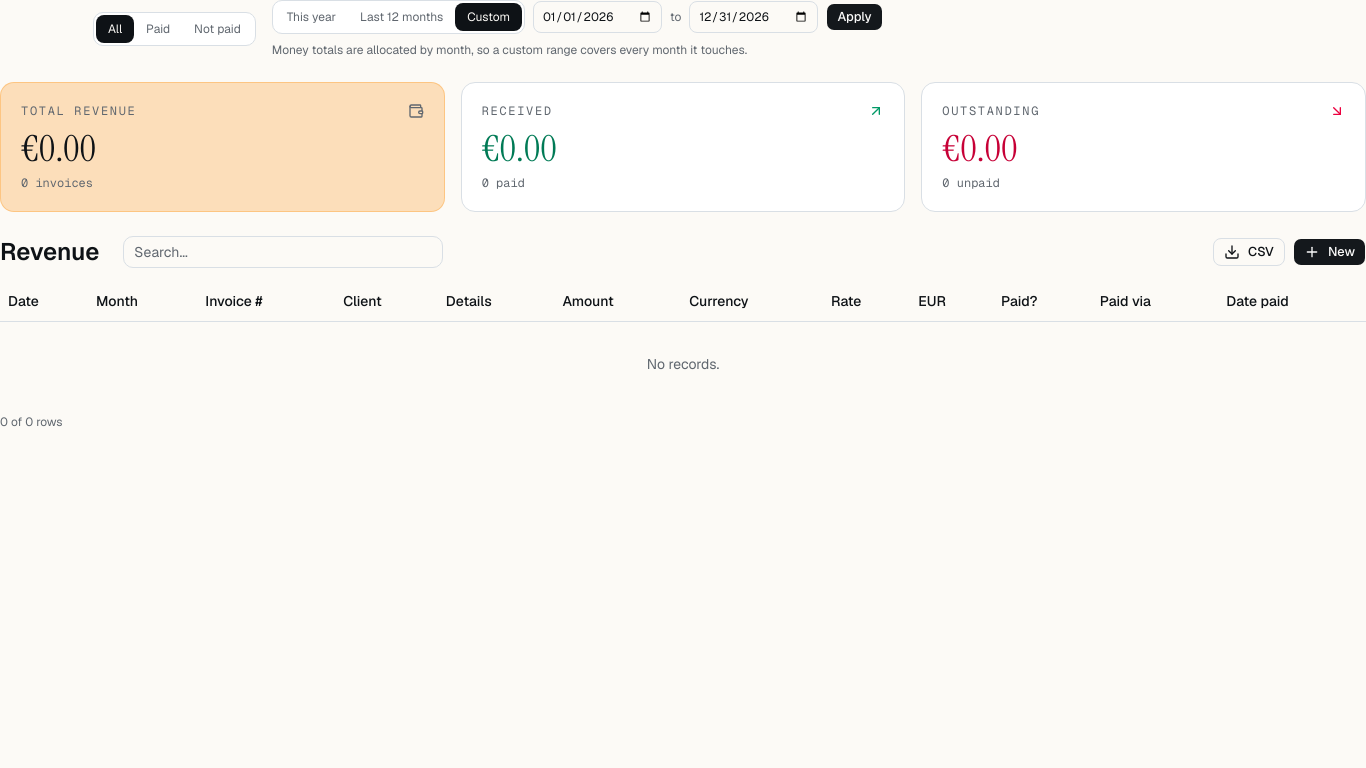
Scenario: Creating a revenue record › opens the new record so the service breakdown is reachable
The width and height of the screenshot is (1366, 768).
Click the button "New": (1329, 252) [1293,238,1365,266]
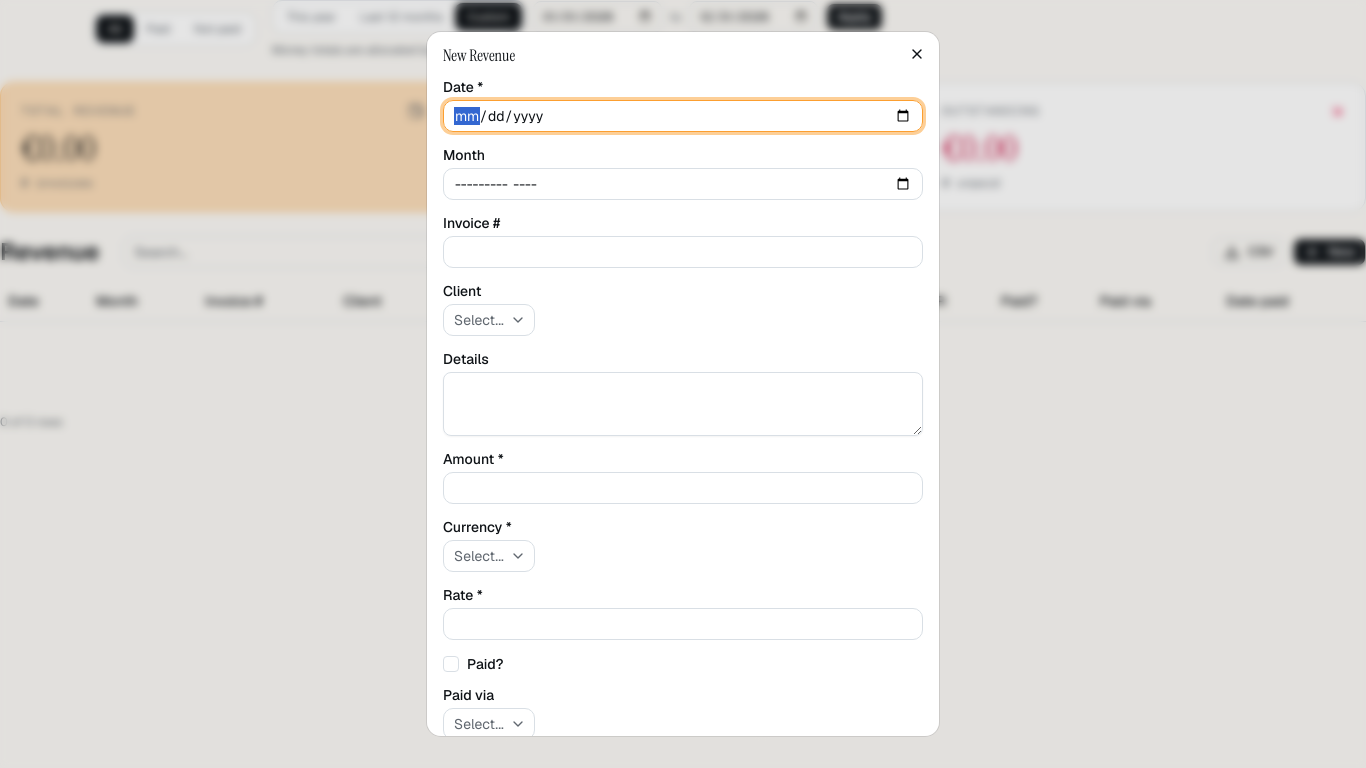
In the date field labelled "Date *": (683, 116) [443,100,923,132], type "2026-08-05"
In the number field labelled "Amount *": (683, 488) [443,472,923,504], type "1500"
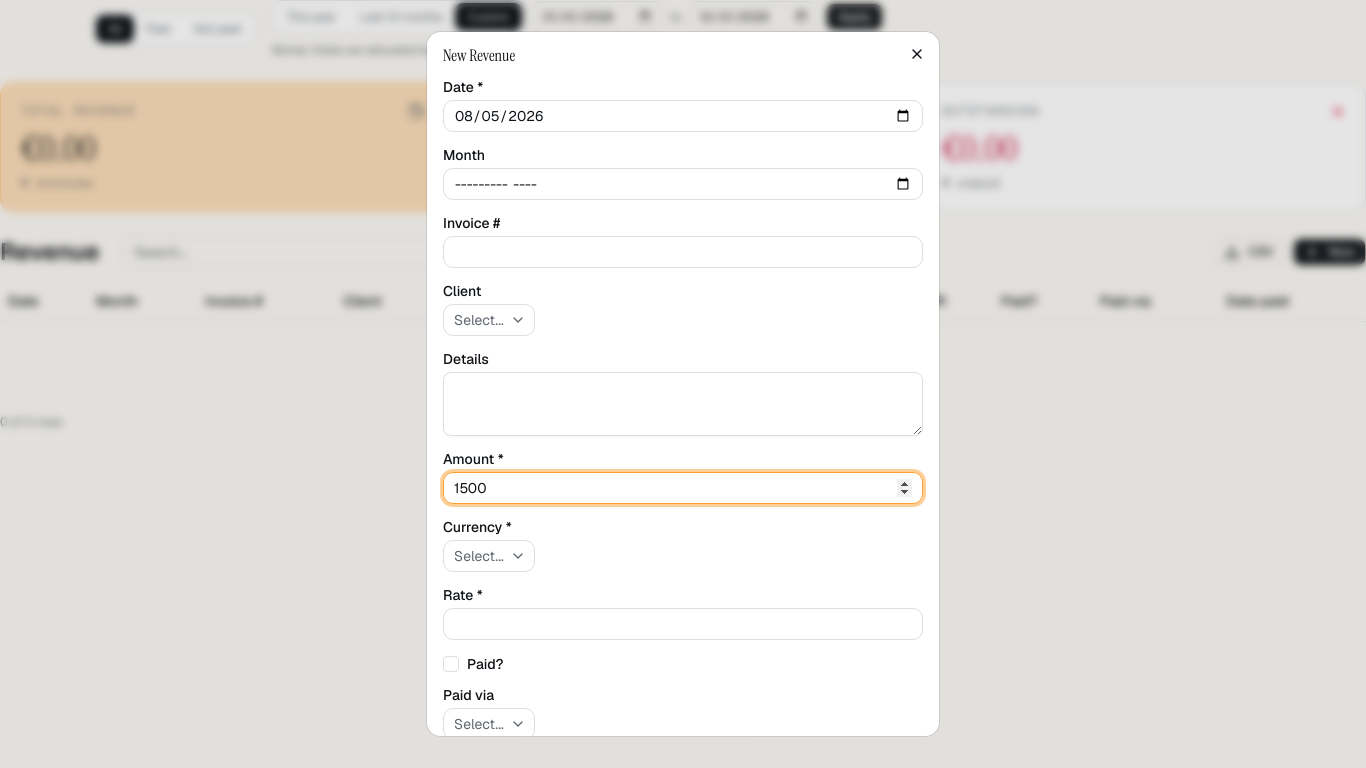
In the number field labelled "Rate *": (683, 624) [443,608,923,640], type "1"
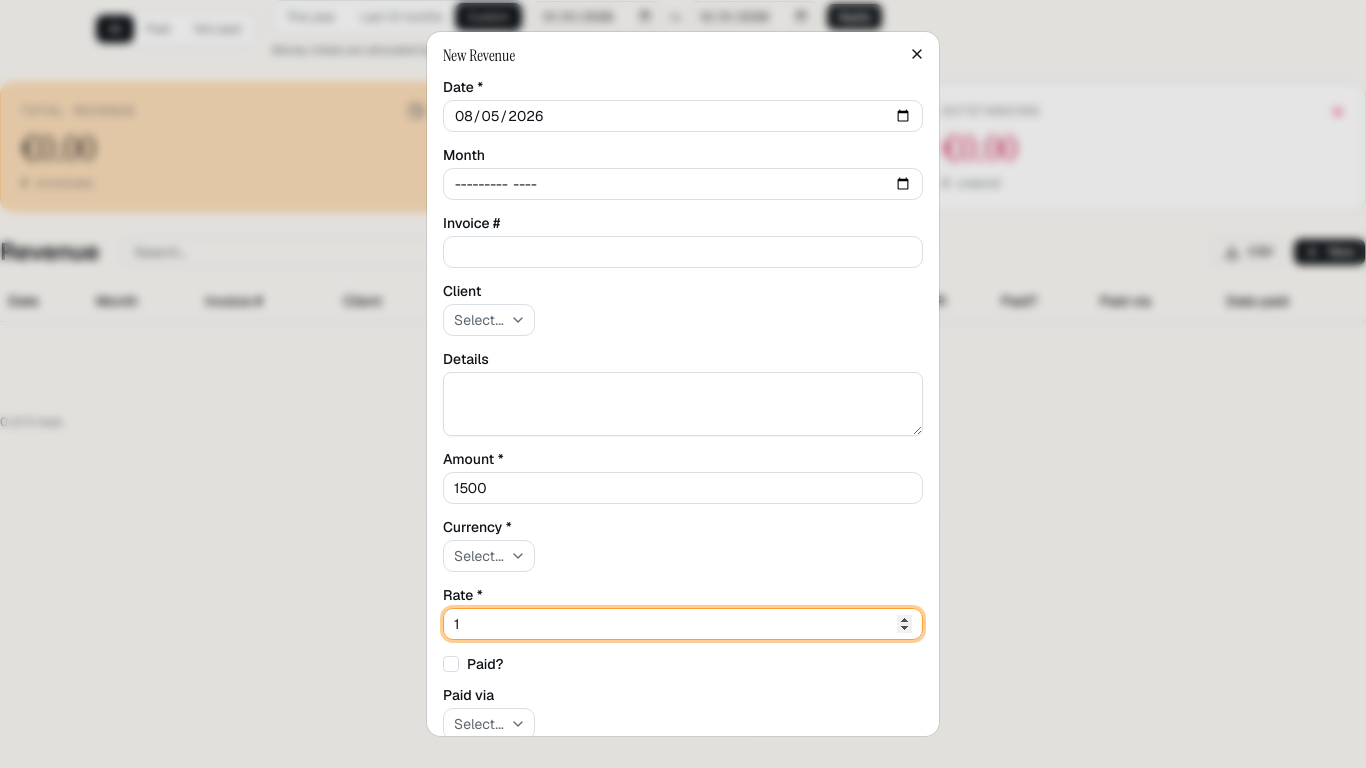
Click the dropdown named "currency": (489, 556) [443,540,535,572]
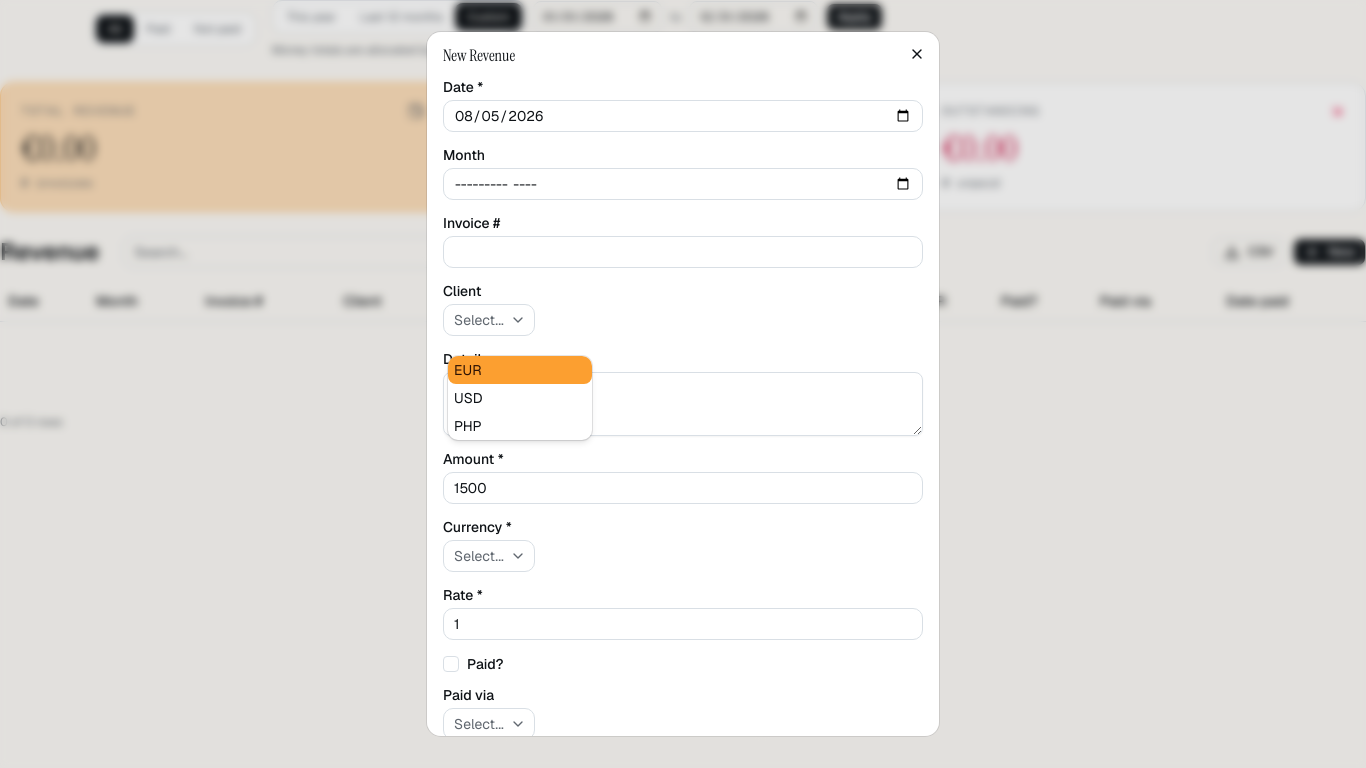
Click the option "EUR": (520, 370) [448,356,592,384]
(page scrolled)
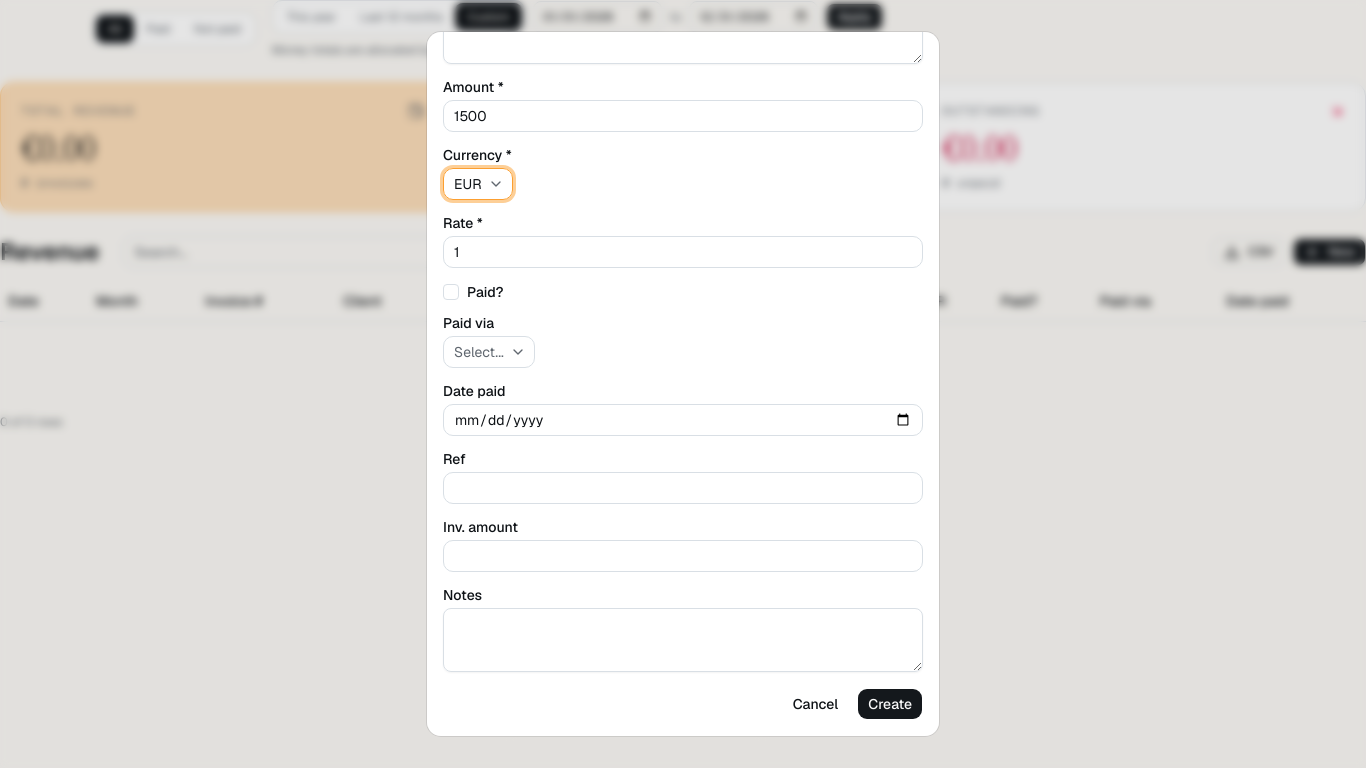
Click the button "Create": (890, 704) [857,688,923,720]
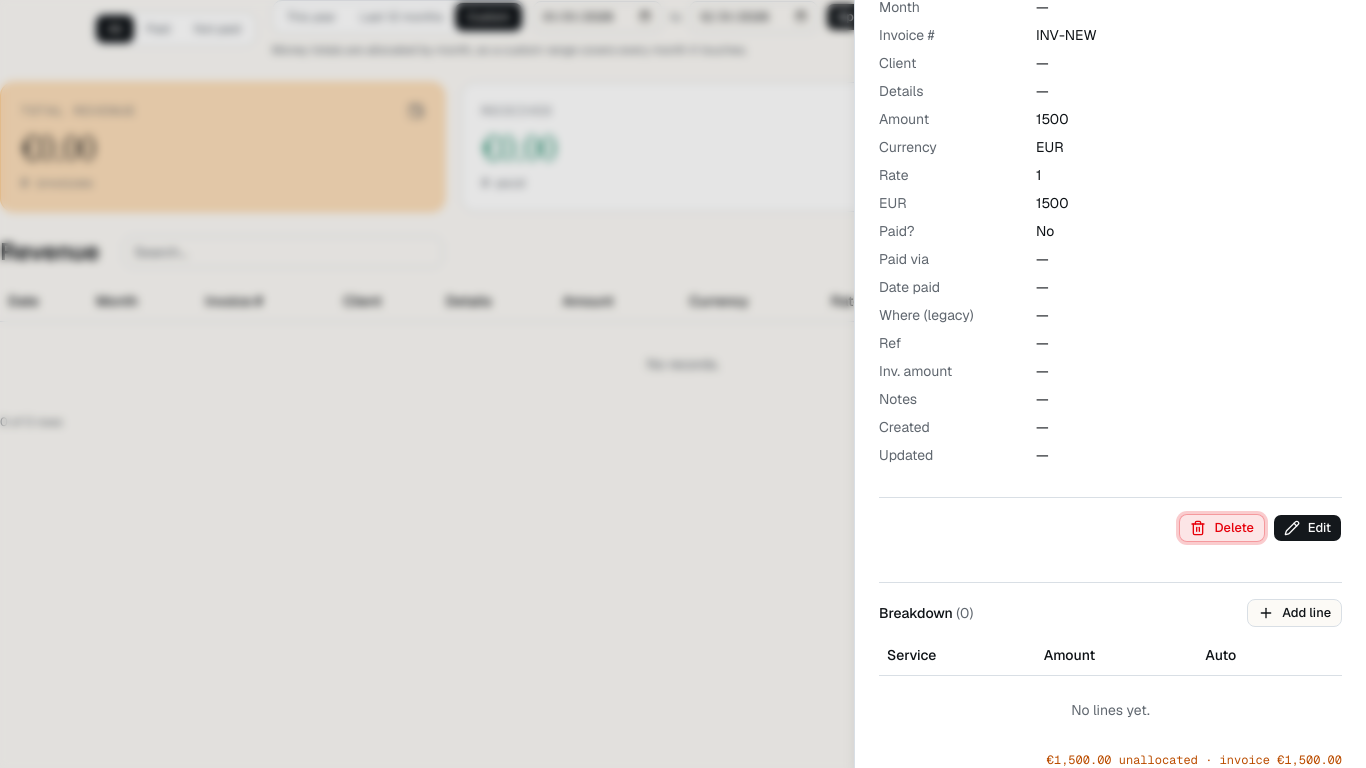
Expected: the heading "Breakdown (0)" is shown, [879,603,973,623]
